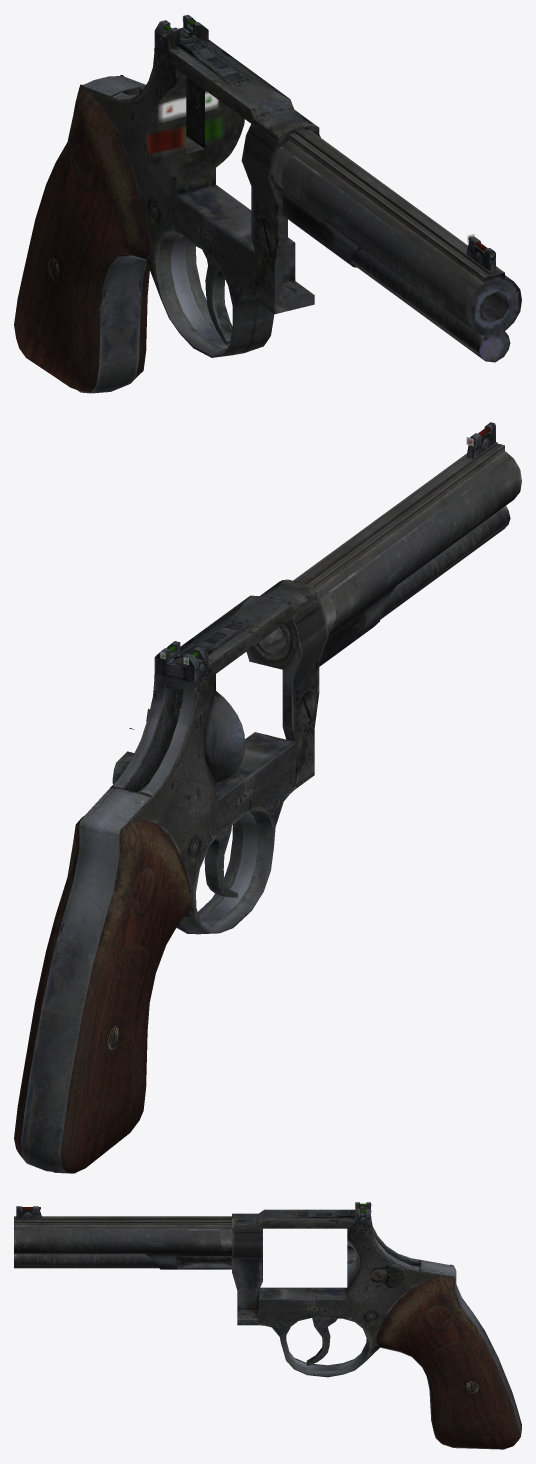
The model's file is revolver.obj.
3 renders of one model, top to bottom at view 1: azimuth 30°, elevation 25°; view 2: azimuth 150°, elevation 25°; view 3: azimuth 270°, elevation 25°, orthographic. The views are drawn at different scales.
Visible parts, largest first — view 1: wpn_revolver; view 2: wpn_revolver; view 3: wpn_revolver.
Part boxes in pixels (x1=…): wpn_revolver: x1=14, y1=14, x2=521, y2=393; wpn_revolver: x1=14, y1=422, x2=521, y2=1173; wpn_revolver: x1=14, y1=1202, x2=521, y2=1449.
Size of the model in its own units: 0.0408 by 0.1695 by 0.3255.
